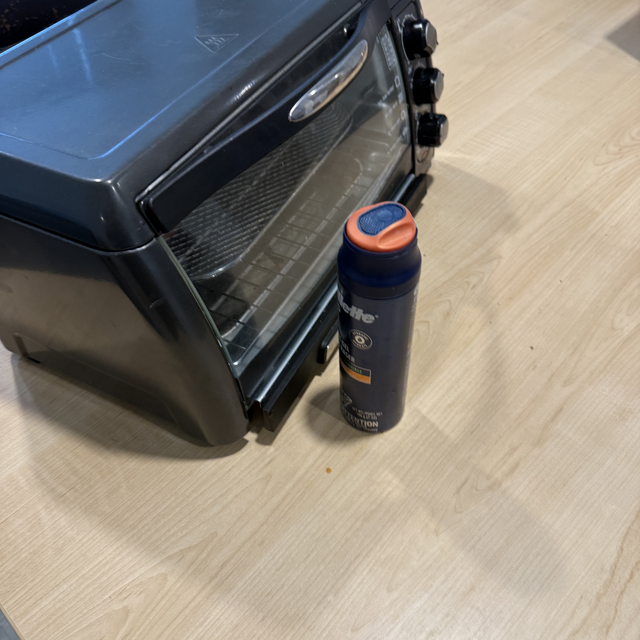Aerosol: (340, 199, 423, 437)
Toaster Oven: (0, 0, 471, 453)
